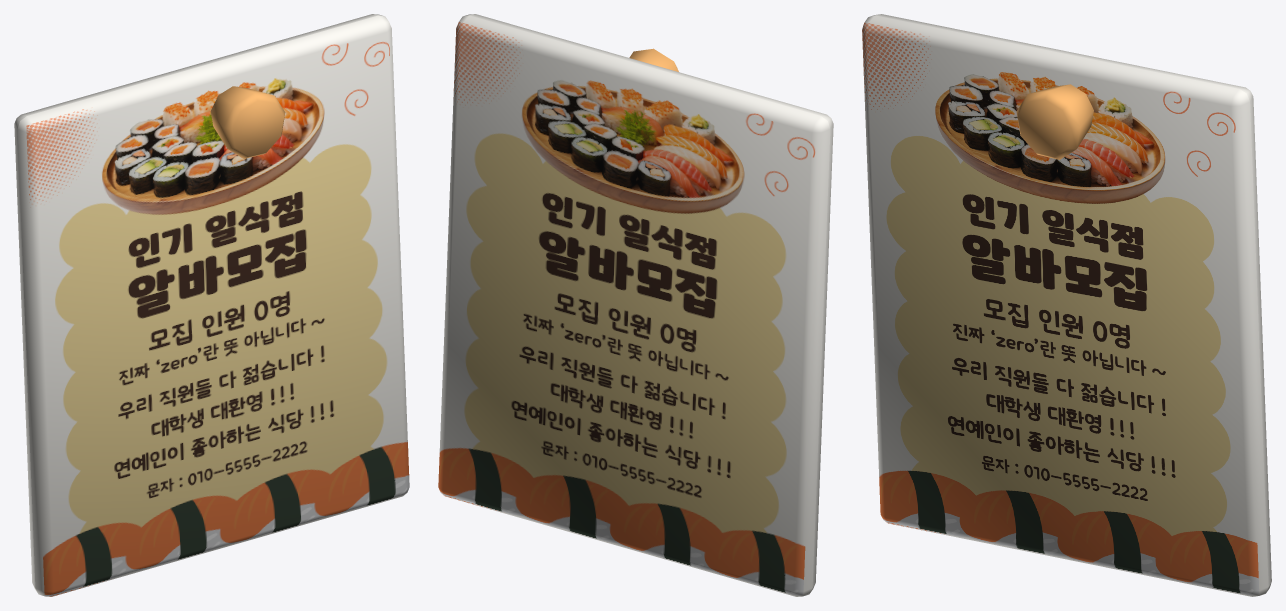
The model's file is SushiMemo.glb.
3 views of the same model, side by side, from view 1: azimuth 30°, elevation 25°; view 2: azimuth 150°, elevation 25°; view 3: azimuth 330°, elevation 25° (orthographic). The views are drawn at different scales.
Visible parts, largest first — view 1: Sushi; view 2: Sushi; view 3: Sushi.
Part boxes in pixels (<box>): Sushi: <box>14,14,409,596</box>; Sushi: <box>438,14,833,596</box>; Sushi: <box>862,14,1271,596</box>.
Size of the model in its own units: 1.44 by 1.77 by 0.272.
2 materials, 1 textured.
